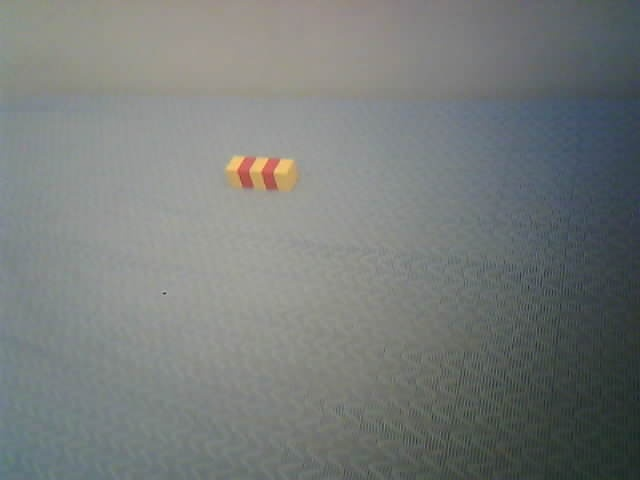lego: (224, 154, 299, 194)
